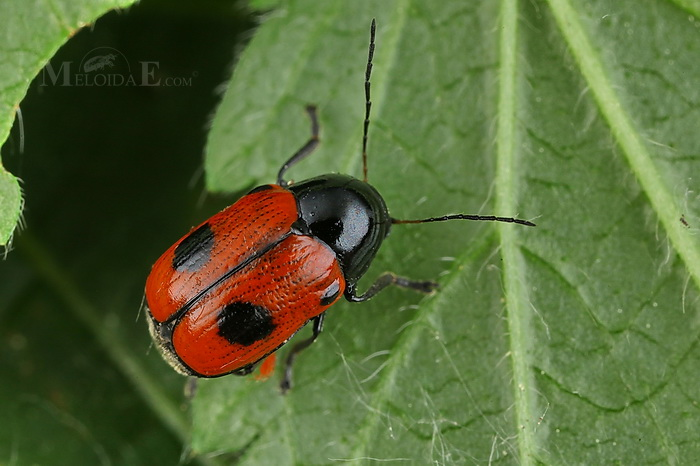Cryptocephalus_bipunctatus: (134, 14, 535, 393)
